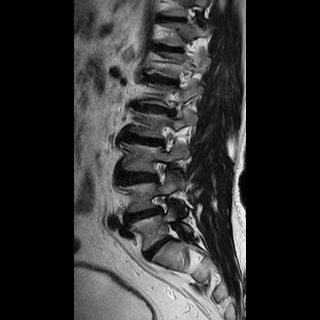LFS0: (146, 188, 173, 220)
